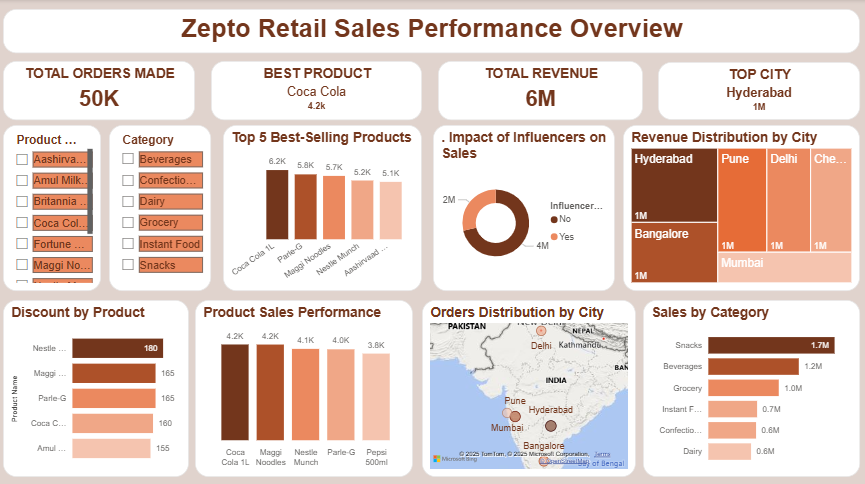

Layout of this report page (visuals, bound fields, positions):
{"tool":"powerbi","page":{"name":"Dashboard","canvas":[1280,720],"ordinal":0},"visuals":[{"type":"barChart","title":"Sales by Category","fields":{"Category":["zepto_sales_dataset.Category"],"Y":["Sum(zepto_sales_dataset.Total Revenue)"]},"box":[949.2,442.3,318.9,260.1],"z":0},{"type":"map","title":"Orders Distribution by City","fields":{"Category":["zepto_sales_dataset.City"],"Size":["Sum(zepto_sales_dataset.Orders)"]},"box":[624.5,442.3,314.4,260.1],"z":1000},{"type":"clusteredColumnChart","title":"Product Sales Performance","fields":{"Category":["zepto_sales_dataset.Product Name"],"Y":["Sum(zepto_sales_dataset.Current Price)"]},"box":[290.9,442.3,320.3,260.1],"z":2000},{"type":"clusteredColumnChart","title":"Top 5 Best-Selling Products","fields":{"Category":["zepto_sales_dataset.Product Name"],"Y":["Sum(zepto_sales_dataset.Orders)"]},"box":[332.1,185.1,292.4,243.9],"z":3000},{"type":"donutChart","title":"Impact of Influencers on Sales","fields":{"Category":["zepto_sales_dataset.Influencer Active"],"Y":["Sum(zepto_sales_dataset.Total Revenue)"]},"box":[640.7,185.1,267.4,243.9],"z":4000},{"type":"barChart","title":"Discount by Product ","fields":{"Category":["zepto_sales_dataset.Product Name"],"Y":["Sum(zepto_sales_dataset.Discount)"]},"box":[8.8,442.3,273.3,260.1],"z":5000},{"type":"treemap","title":"Revenue Distribution by City","fields":{"Group":["zepto_sales_dataset.City"],"Values":["Sum(zepto_sales_dataset.Total Revenue)"]},"box":[919.8,185.1,348.2,243.9],"z":6000},{"type":"slicer","fields":{"Values":["zepto_sales_dataset.Product Name"]},"box":[8.8,185.1,144,243.9],"z":7000},{"type":"slicer","fields":{"Values":["zepto_sales_dataset.Category"]},"box":[164.6,185.1,149.9,243.9],"z":8000},{"type":"textbox","title":"Zepto Retail Sales Performance Overview","box":[8.8,14.7,1259.3,64.7],"z":9000},{"type":"card","title":"TOTAL REVENUE","fields":{"Values":["Sum(zepto_sales_dataset.Total Revenue)"]},"box":[648,91.1,301.2,86.7],"z":10000},{"type":"card","title":"TOTAL ORDERS MADE","fields":{"Values":["Sum(zepto_sales_dataset.Orders)"]},"box":[8.8,91.1,282.1,86.7],"z":11000},{"type":"textbox","title":"BEST PRODUCT","box":[314.4,91.1,310,86.7],"z":12000},{"type":"textbox","title":"TOP CITY","box":[971.3,92.6,296.8,85.2],"z":13000}]}

Visuals, with their boxes in screenshot pixels (x1, y1, x2, y2), scaled from the page's 1280x720 canvas onto the 865x484 screenshot:
"Sales by Category" barChart: [x1=641, y1=297, x2=857, y2=472]
"Orders Distribution by City" map: [x1=422, y1=297, x2=634, y2=472]
"Product Sales Performance" clusteredColumnChart: [x1=197, y1=297, x2=413, y2=472]
"Top 5 Best-Selling Products" clusteredColumnChart: [x1=224, y1=124, x2=422, y2=288]
"Impact of Influencers on Sales" donutChart: [x1=433, y1=124, x2=614, y2=288]
"Discount by Product " barChart: [x1=6, y1=297, x2=191, y2=472]
"Revenue Distribution by City" treemap: [x1=622, y1=124, x2=857, y2=288]
slicer - zepto_sales_dataset.Product Name: [x1=6, y1=124, x2=103, y2=288]
slicer - zepto_sales_dataset.Category: [x1=111, y1=124, x2=213, y2=288]
"Zepto Retail Sales Performance Overview" textbox: [x1=6, y1=10, x2=857, y2=53]
"TOTAL REVENUE" card: [x1=438, y1=61, x2=641, y2=120]
"TOTAL ORDERS MADE" card: [x1=6, y1=61, x2=197, y2=120]
"BEST PRODUCT" textbox: [x1=212, y1=61, x2=422, y2=120]
"TOP CITY" textbox: [x1=656, y1=62, x2=857, y2=120]
